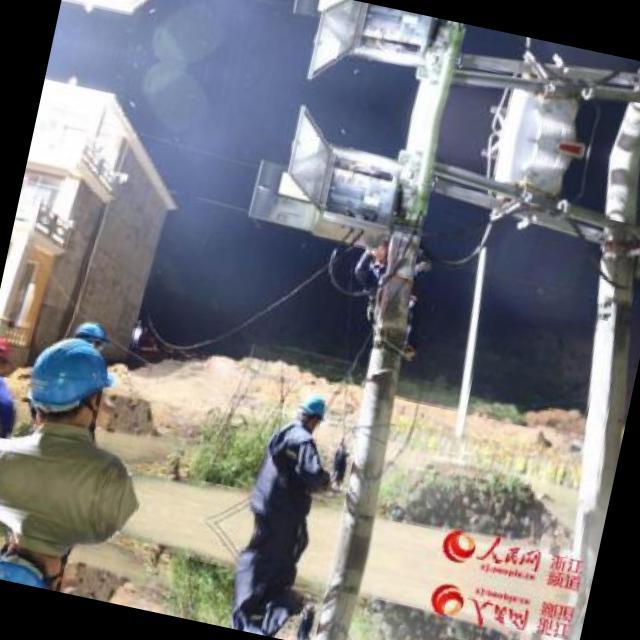helmet: (26, 326, 119, 438), (0, 534, 76, 592), (294, 384, 331, 432), (73, 316, 113, 356), (0, 330, 14, 377)
